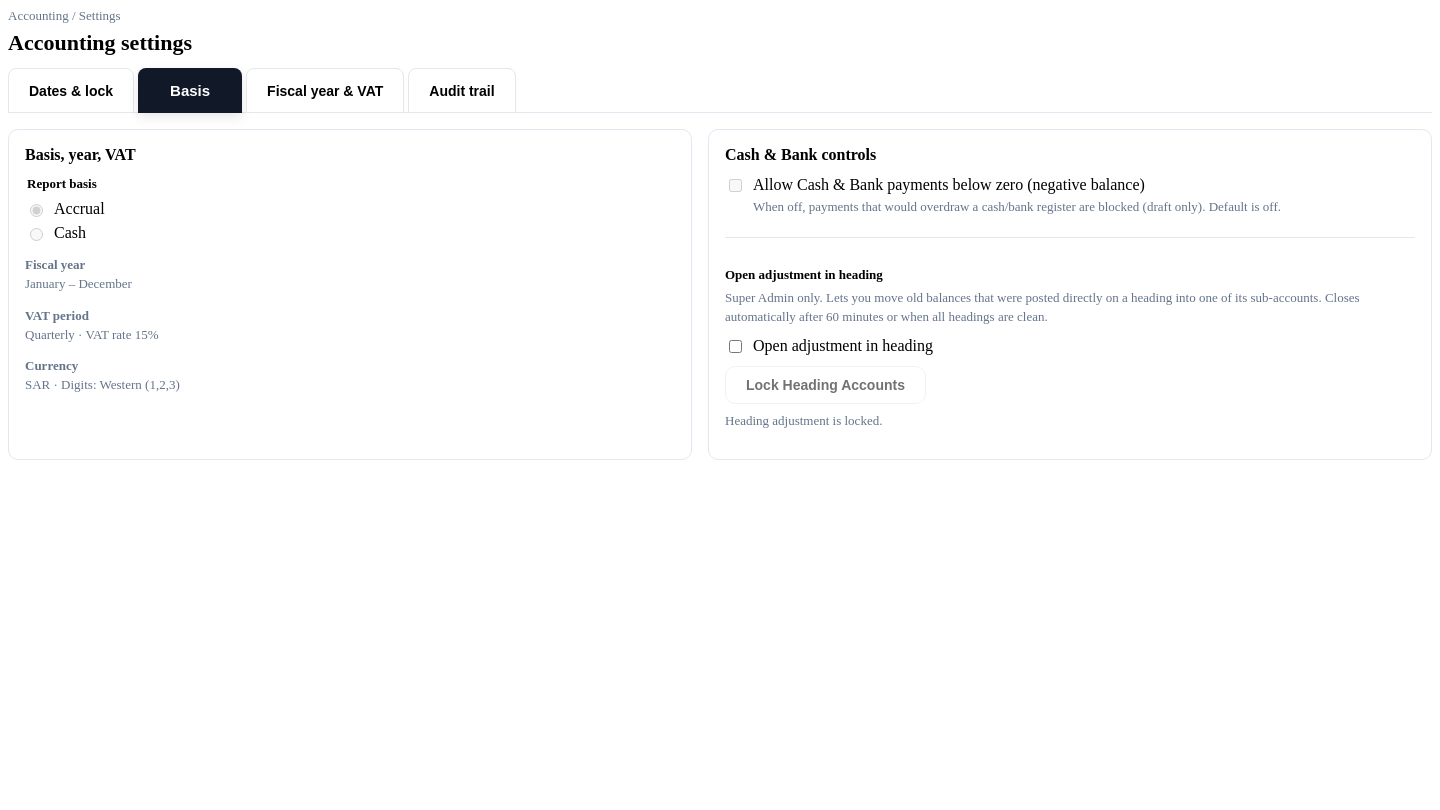
WorkshopAccountingSettings heading toggle dialog › workshop scope: click checkbox opens dialog without footer reason error
The width and height of the screenshot is (1440, 810).
Click the checkbox with test id "heading-reclass-open-checkbox": click(736, 346) [729,340,742,352]
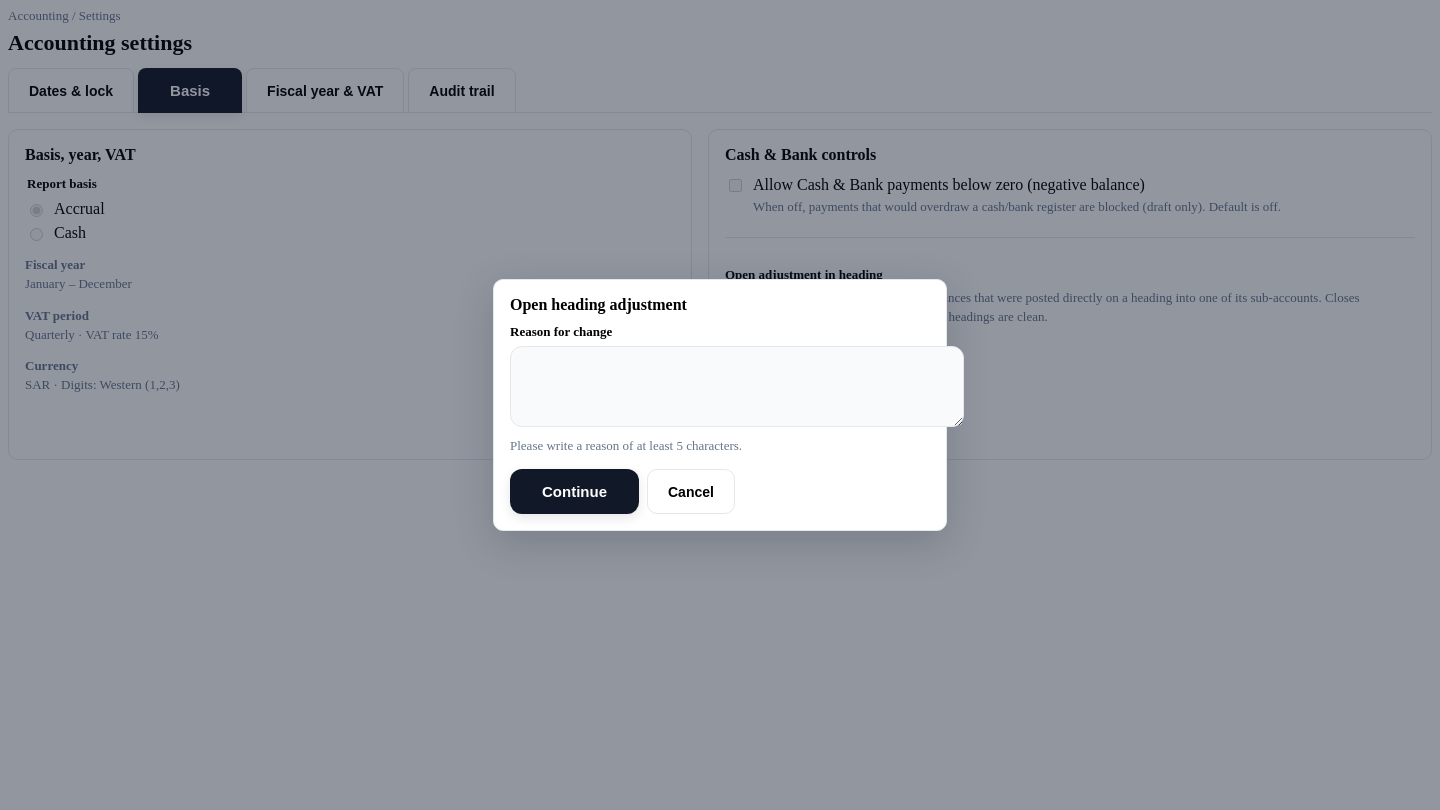
Result: the dialog with test id "heading-reclass-reason-dialog" is shown
